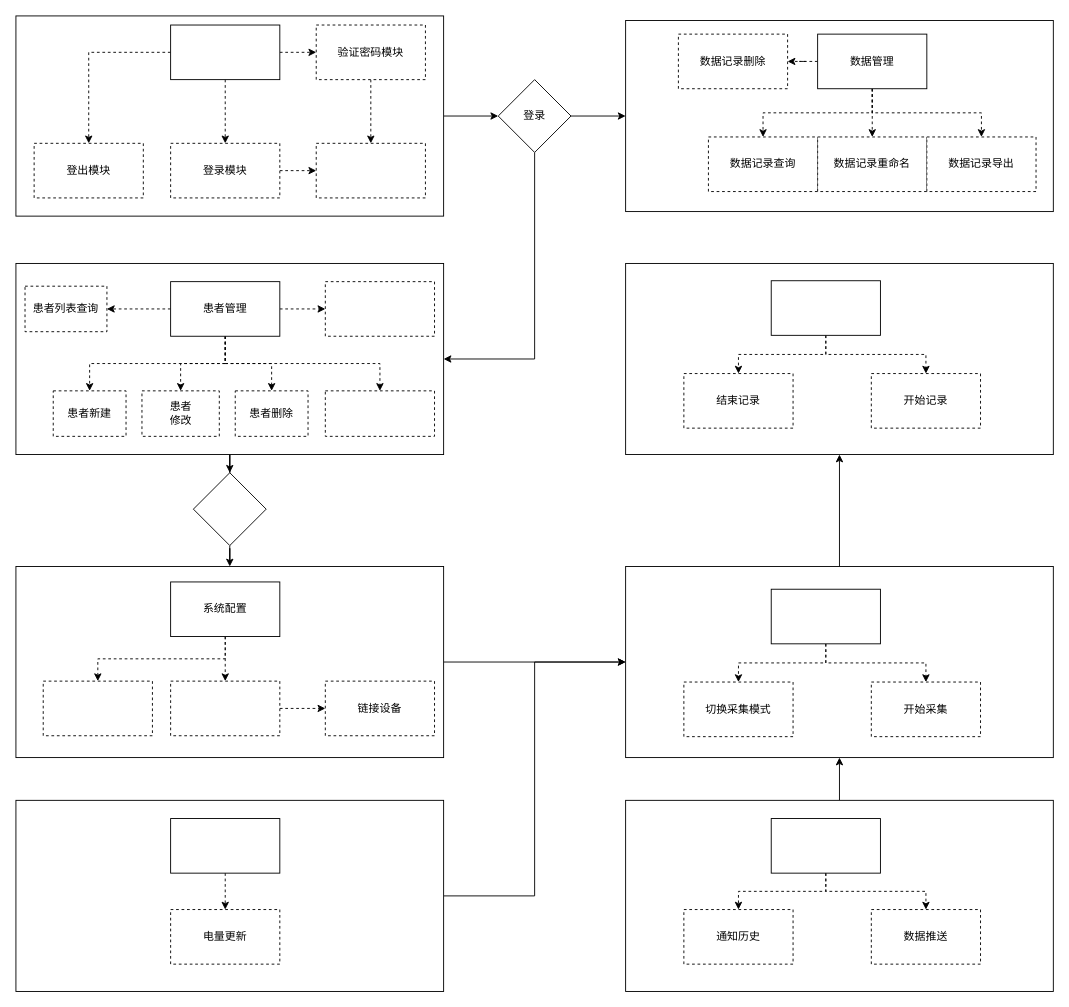
This 1069x1007 diagram has some shape labels left out. Each missing label, with the centre of its shape:
"信号采集" belongs at point (825, 616).
"修改用户名和密码模块" belongs at point (370, 170).
"患者选择" belongs at point (379, 308).
"患者选择查询" belongs at point (379, 413).
"扫描设备" belongs at point (225, 708).
"数据记录" belongs at point (825, 307).
"用户管理" belongs at point (225, 52).
"电量管理" belongs at point (225, 845).
"结束扫描" belongs at point (97, 708).
"选择患者" belongs at point (229, 509).
"通知管理" belongs at point (825, 845).
